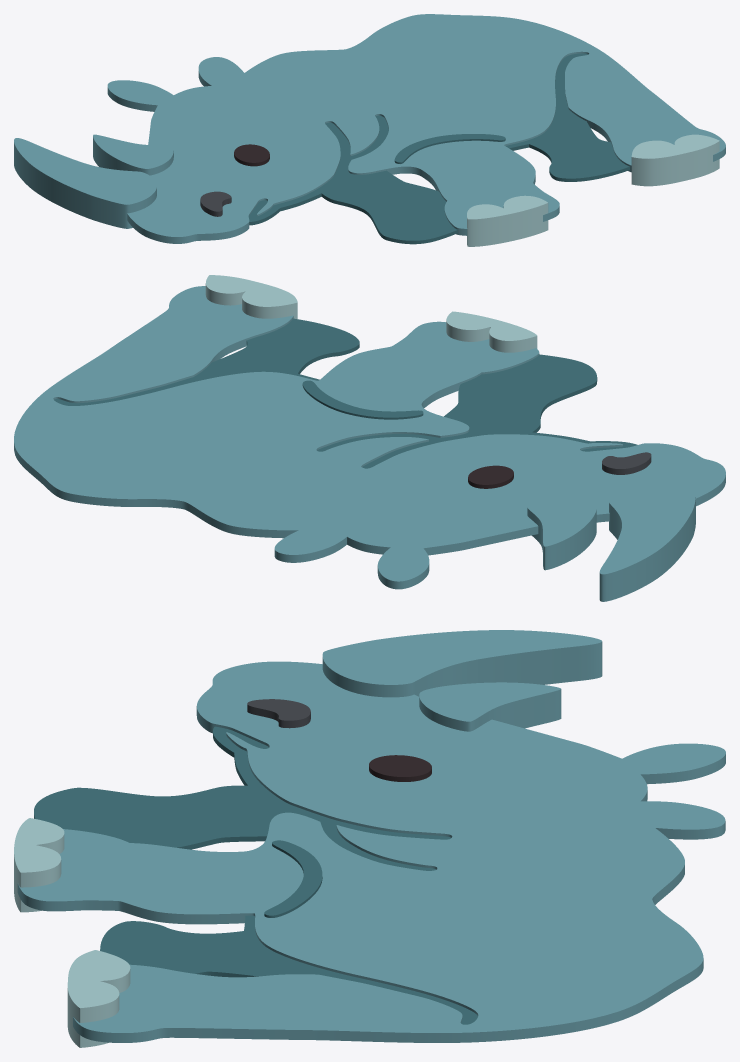
Rendered from emoji_u1f98f.glb.
3 renders of one model, top to bottom at view 1: azimuth 30°, elevation 25°; view 2: azimuth 150°, elevation 25°; view 3: azimuth 270°, elevation 25°, orthographic. The views are drawn at different scales.
Visible parts, largest first — view 1: emoji_u1f98f; view 2: emoji_u1f98f; view 3: emoji_u1f98f.
Boxes of the visible parts, bbox=[...] form: emoji_u1f98f: bbox=[14, 14, 725, 246]; emoji_u1f98f: bbox=[14, 275, 725, 601]; emoji_u1f98f: bbox=[14, 630, 725, 1047].
Bounding box in the file's own units: 0.0337 × 0.0016 × 0.026.
